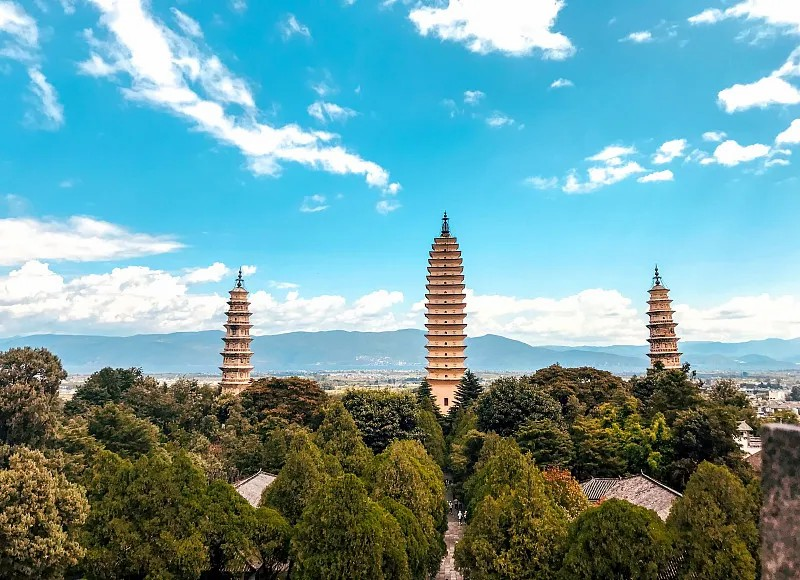ThreePagoda: (424, 211, 469, 414)
